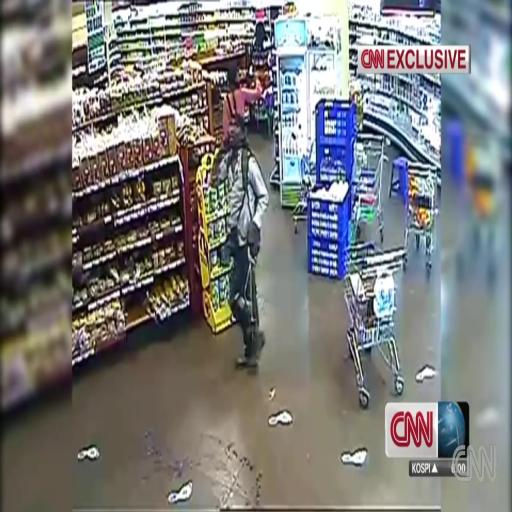Guns: (238, 263, 262, 361)
